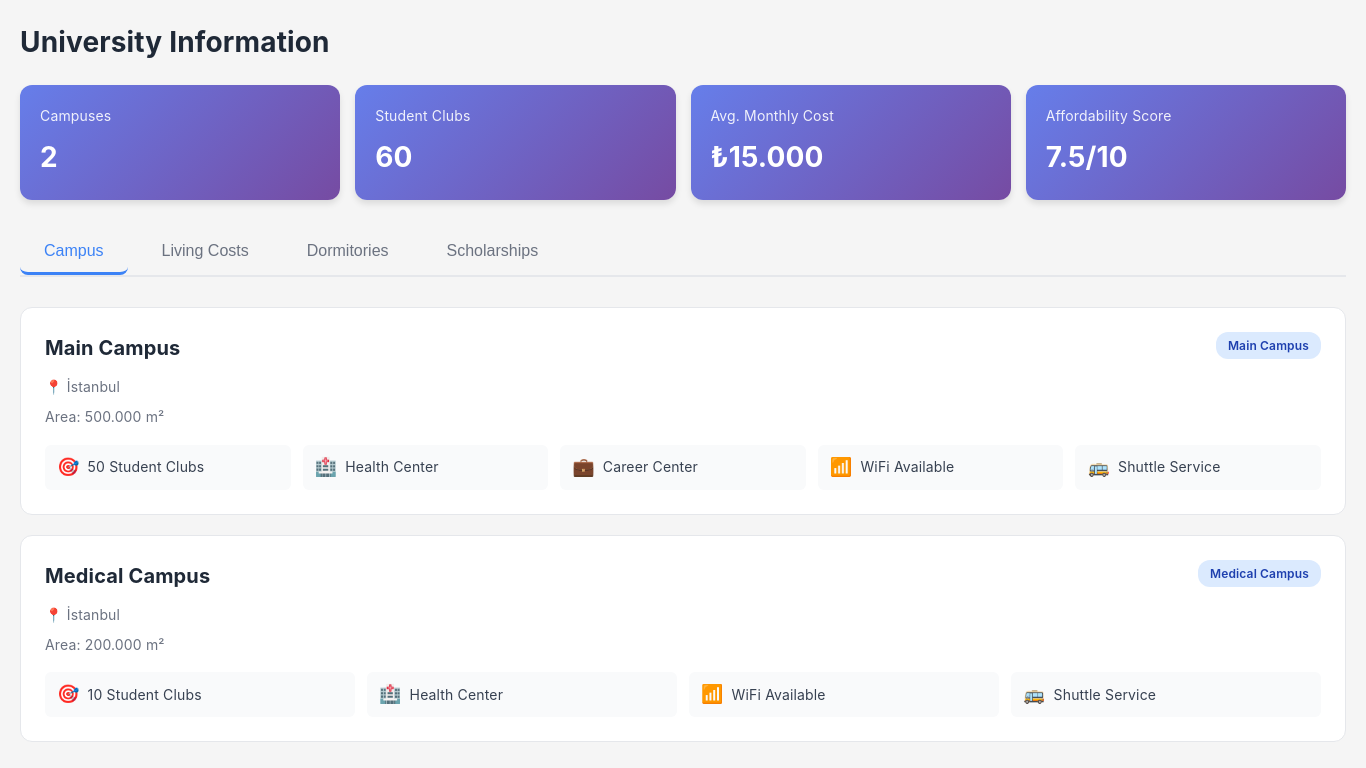
Test case: UniversityInfo - Living Costs Tab › shows empty state when no living cost data
The image size is (1366, 768).
Click the button "Living Costs": (205, 252) x1=138 y1=230 x2=273 y2=275
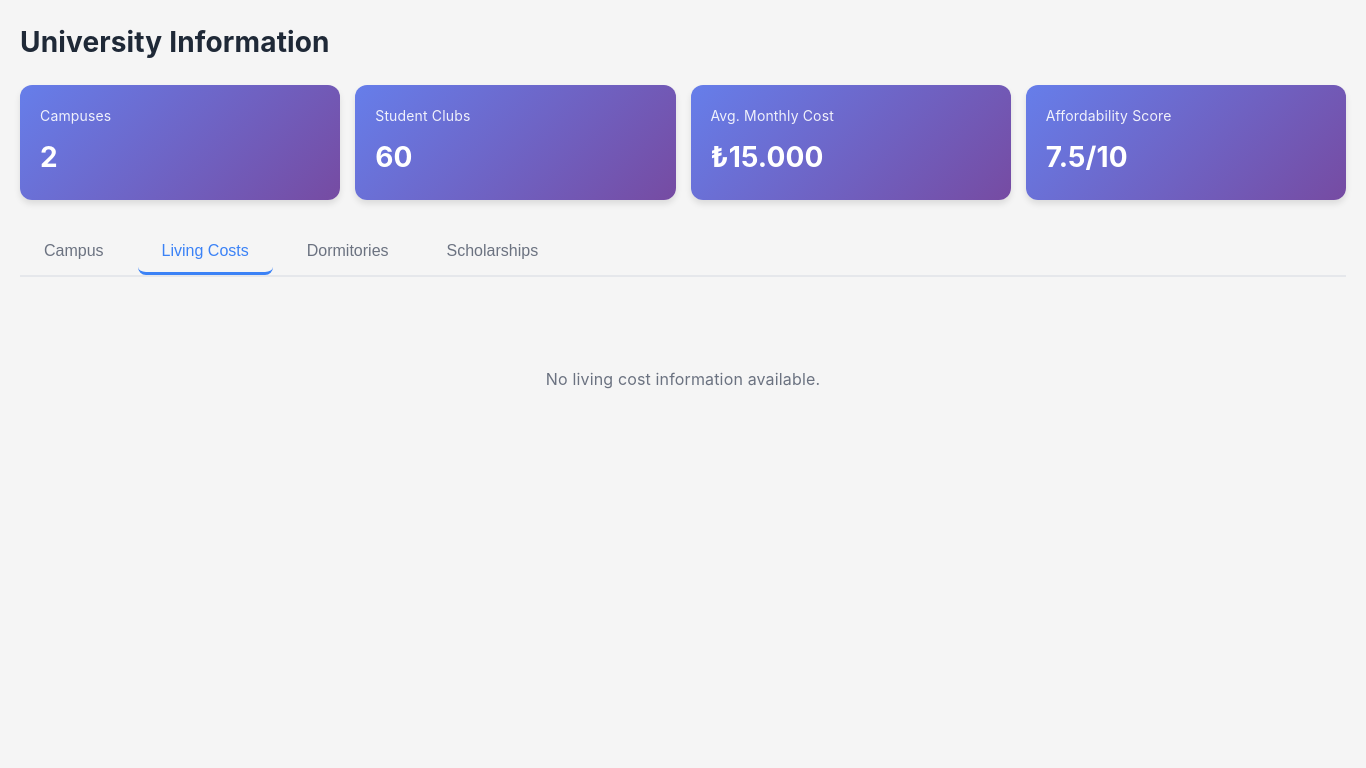
Check: the text "No living cost information available." is shown, box x1=546 y1=369 x2=820 y2=389
